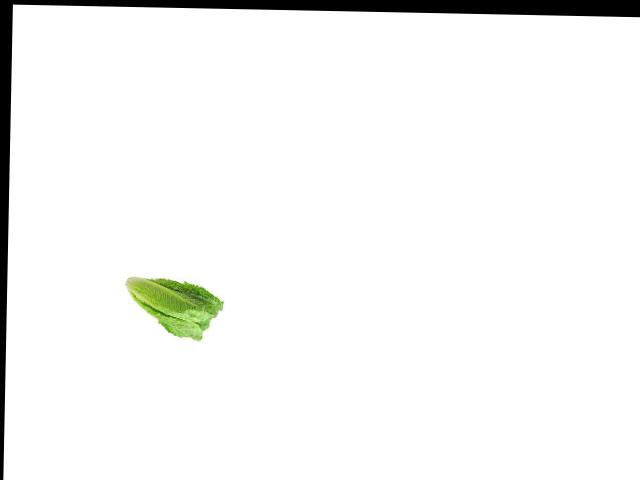lettuce: (115, 275, 224, 342)
